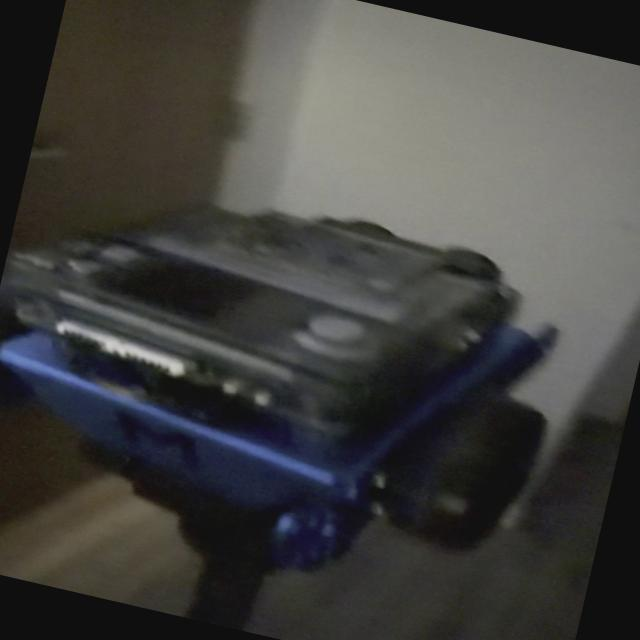mbot-detection: (0, 133, 595, 629)
